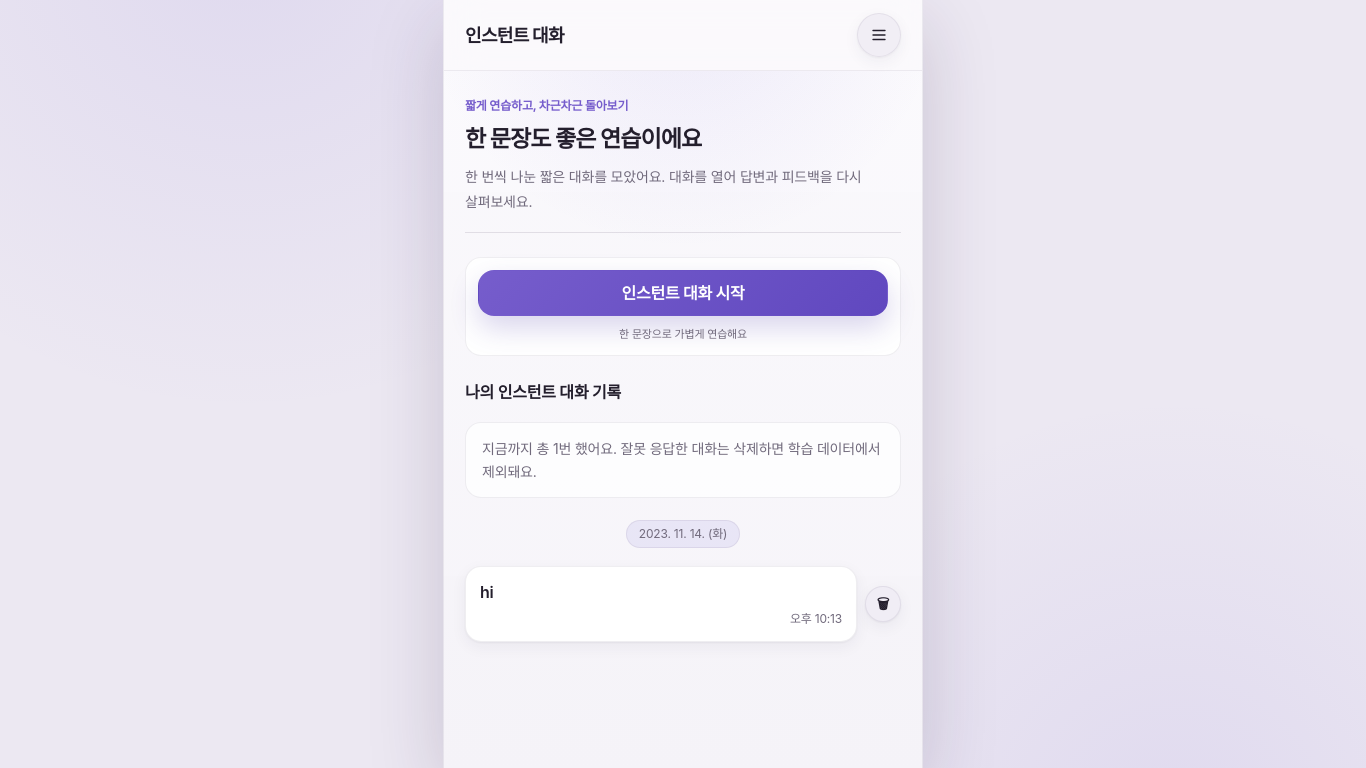
Test: InstantSessions page › asks for confirmation, deletes, and removes the row on confirmed success
What coordinates should you click on to do the following:
click the button named "인스턴트 대화 삭제"
I would click on:
 (883, 604)
Its box is [865, 586, 901, 622].
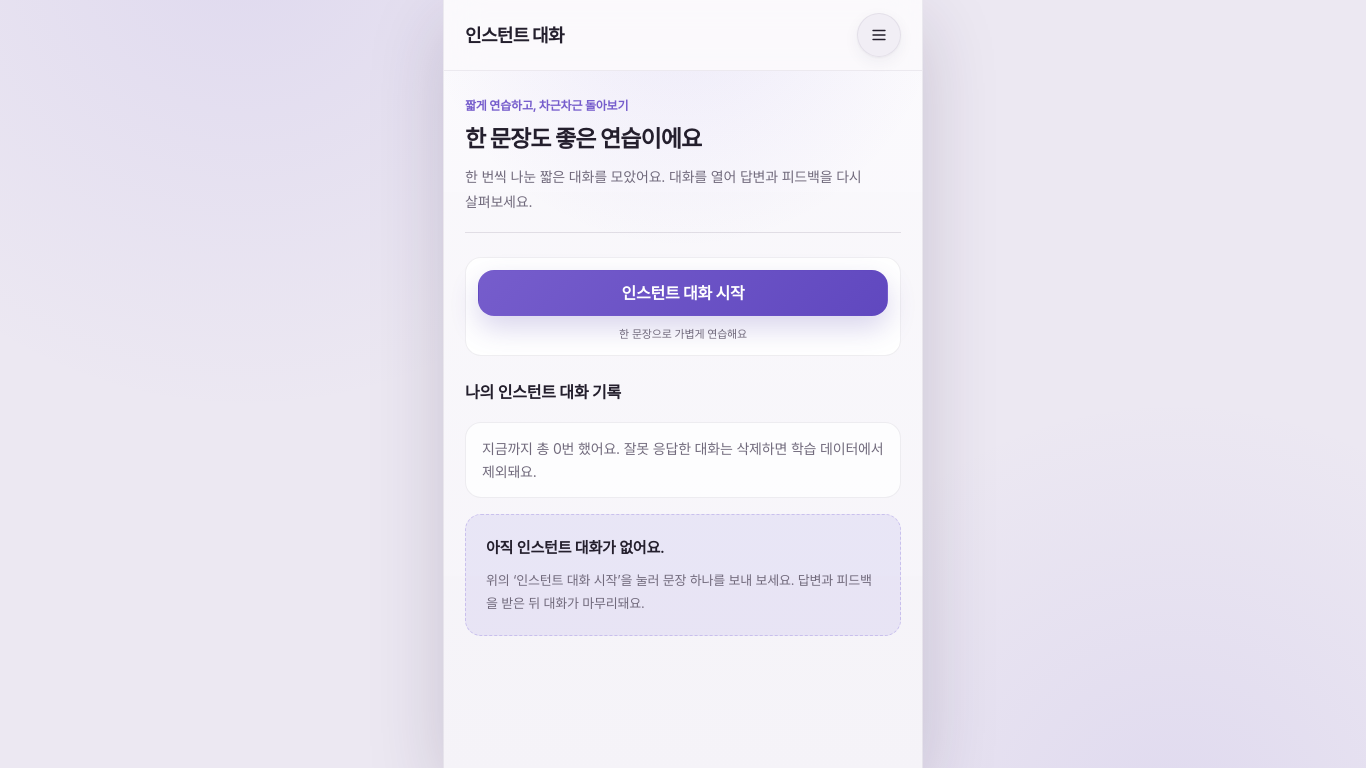
Expected: the text "아직 인스턴트 대화가 없어요." is shown, [486, 538, 665, 557]
